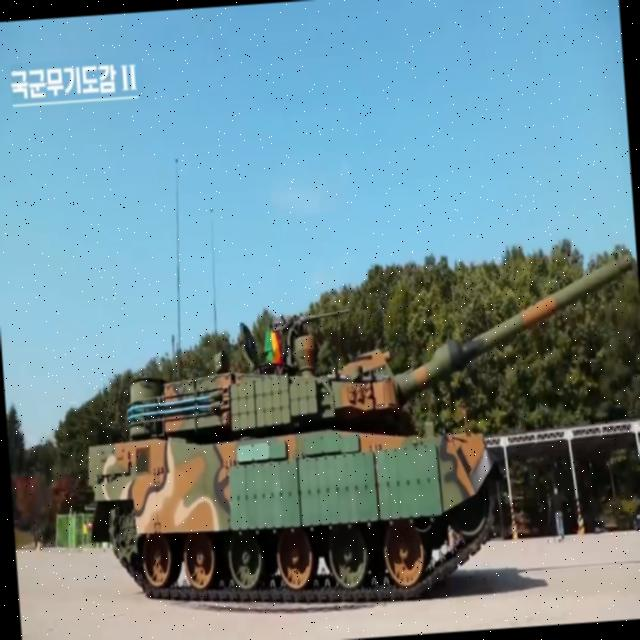korea tank: (70, 246, 640, 625)
